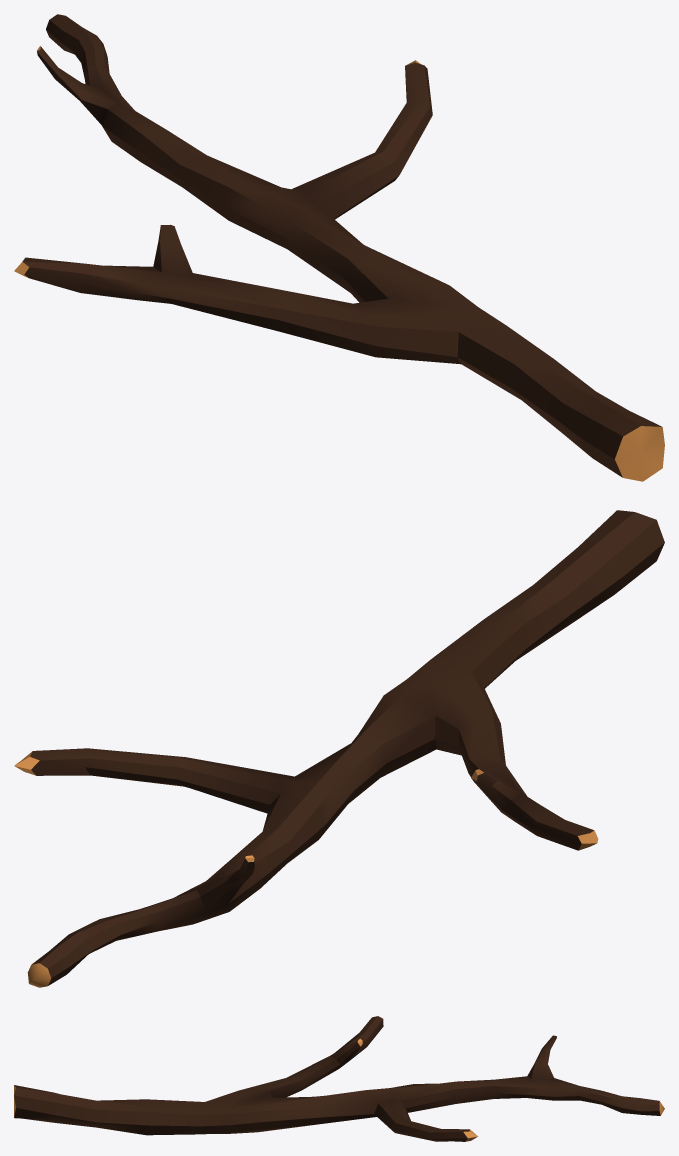
Rendered from Branch1.fbx.
The picture shows the model from 3 angles, top to bottom: view 1: azimuth 30°, elevation 25°; view 2: azimuth 150°, elevation 25°; view 3: azimuth 270°, elevation 25°; orthographic projection. The views are drawn at different scales.
Parts seen in each view (by area): view 1: Branch1; view 2: Branch1; view 3: Branch1.
Boxes of the visible parts, x1,y1,x2,y2 form: Branch1: (14, 14, 664, 481); Branch1: (14, 510, 664, 987); Branch1: (14, 1016, 664, 1141).
Bounding box in the file's own units: 584 × 136 × 1218.
